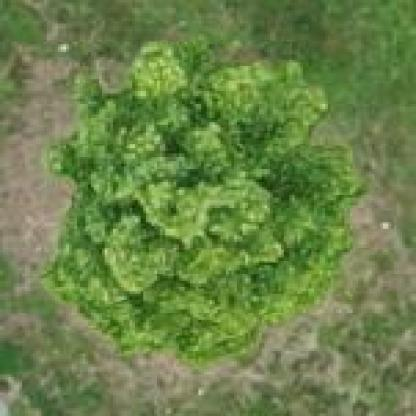Deciduous Tree: (58, 31, 361, 369)
